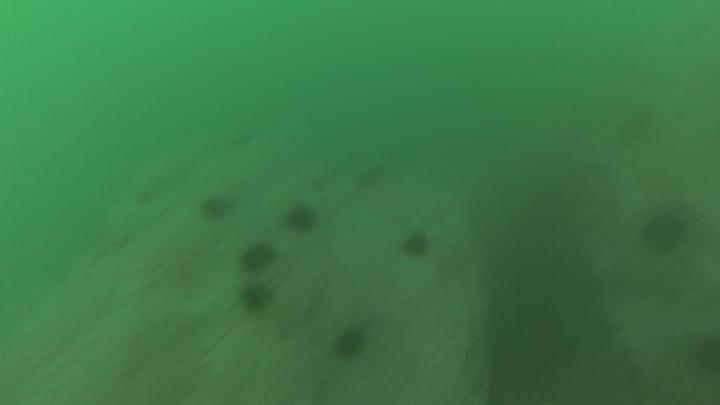echinus: (640, 210, 690, 257), (239, 281, 277, 317), (240, 239, 278, 275), (282, 200, 320, 235), (331, 328, 366, 363), (693, 334, 720, 378), (354, 163, 391, 190), (400, 231, 433, 261), (198, 194, 231, 223), (226, 126, 257, 154)
